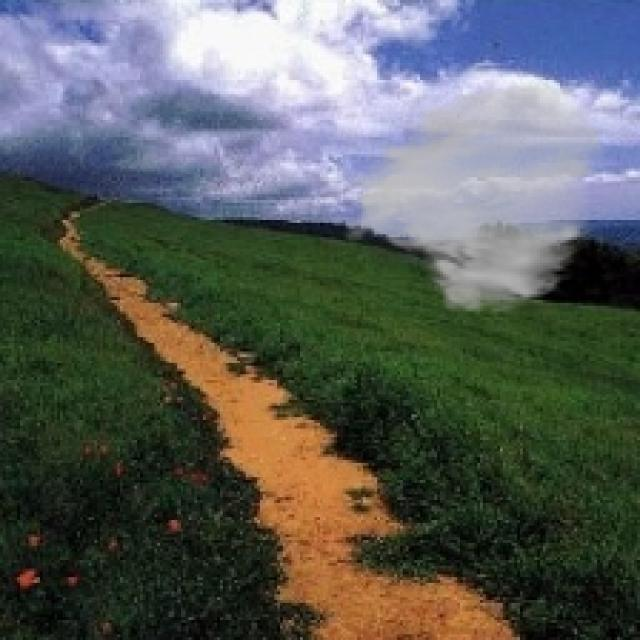Smoke: (341, 80, 608, 317)
